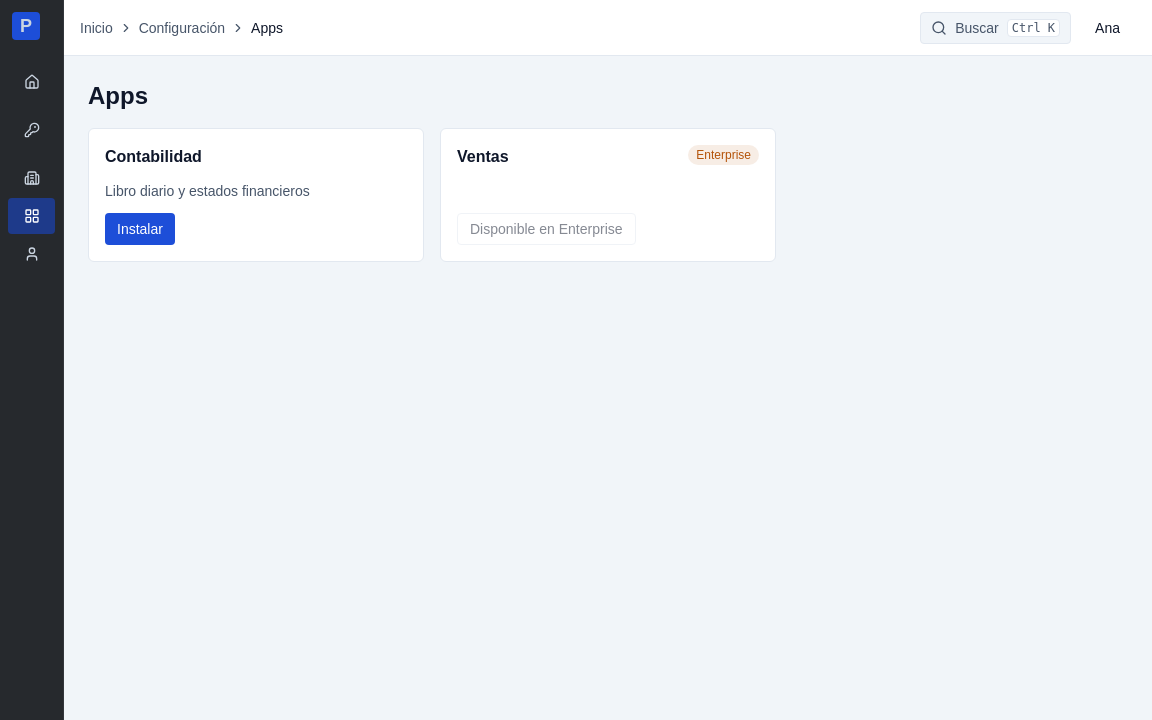
Scenario: pantalla Apps (ADR-030) › un 200 (ya instalada) se trata como éxito
The image size is (1152, 720).
Click the button with aria-label "Instalar Contabilidad": (140, 229) [105,213,175,245]
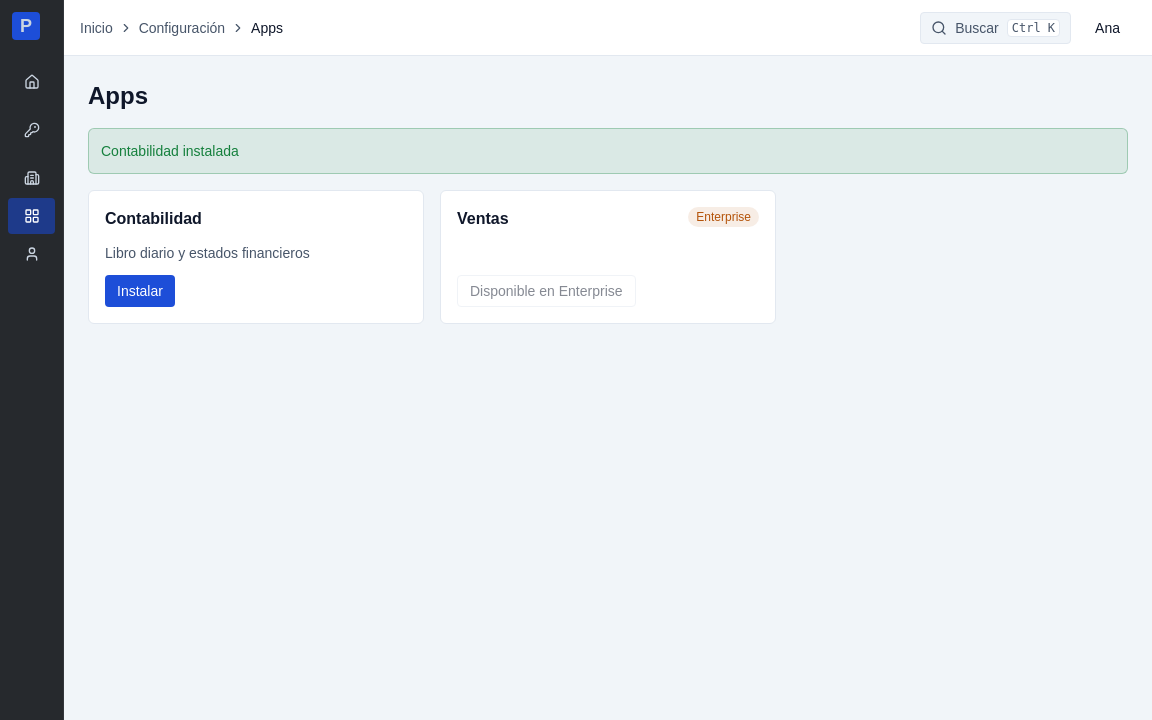
Check: the text "Contabilidad instalada" is shown, box [88,128,1128,174]
